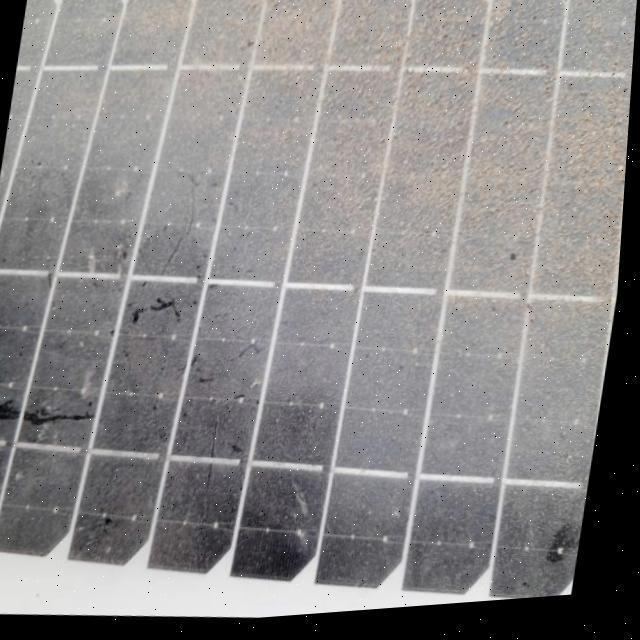Surface Contaminant: (0, 55, 562, 610)
